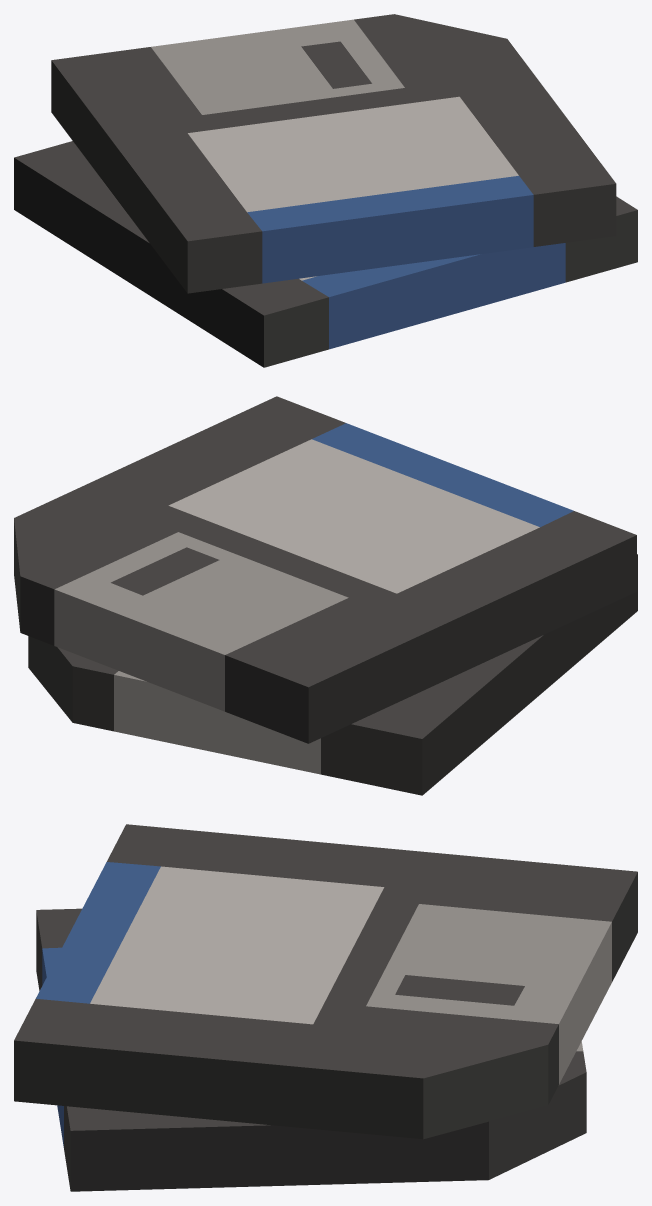
File: SO_Floppydisk_04.fbx
3 renders of one model, top to bottom at view 1: azimuth 30°, elevation 25°; view 2: azimuth 150°, elevation 25°; view 3: azimuth 270°, elevation 25°, orthographic. The views are drawn at different scales.
Parts seen in each view (by area): view 1: SO_Floppydisk_04; view 2: SO_Floppydisk_04; view 3: SO_Floppydisk_04.
Boxes of the visible parts, box(x1,y1,x2,y2) form: SO_Floppydisk_04: box(14, 14, 637, 367); SO_Floppydisk_04: box(14, 396, 637, 795); SO_Floppydisk_04: box(14, 824, 637, 1191).
Bounding box in the file's own units: 0.3604 × 0.0827 × 0.3739.
